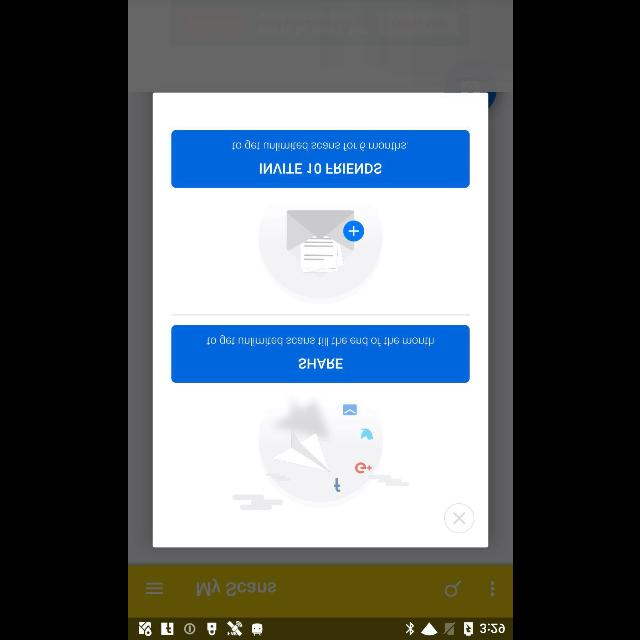icon: (444, 503, 474, 532), (444, 580, 461, 596), (146, 582, 162, 594), (490, 580, 494, 596)
image: (232, 404, 406, 510), (258, 210, 380, 304)
panel: (152, 92, 488, 548)
text: (196, 578, 274, 596)
textbutton: (171, 130, 469, 188), (171, 325, 469, 383)
uppertaskbar: (128, 617, 512, 639)
